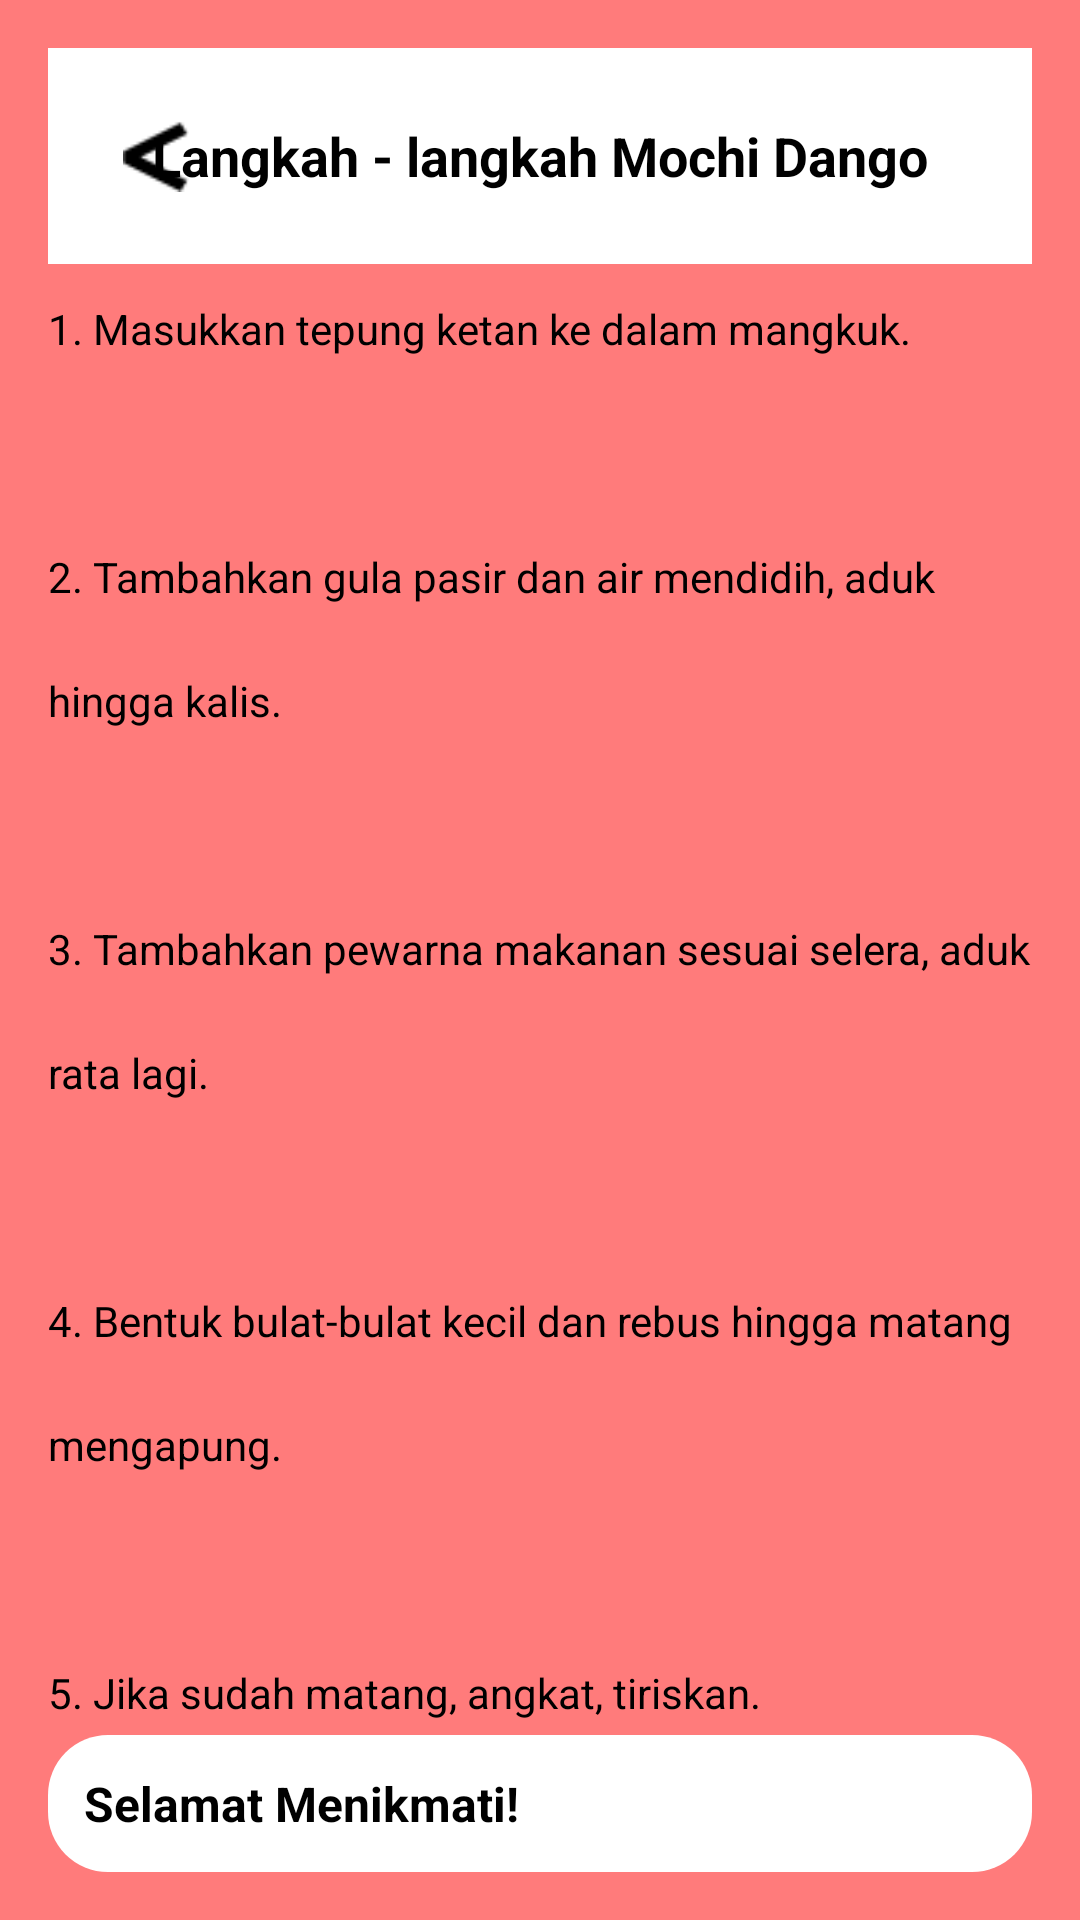

Locate icon controls on the screen. Image size 1080px x 1920px, boxes as bbox=[x1, y1, x2, y2].
Kembali: bbox=[123, 122, 208, 192]
